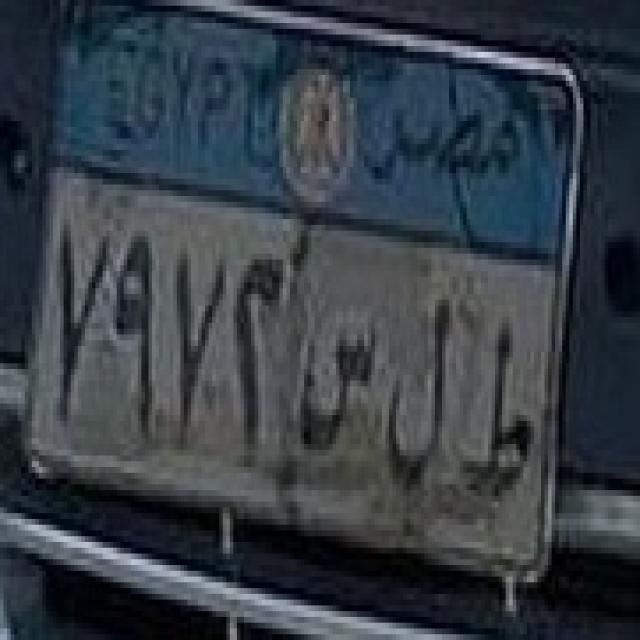2: (227, 242, 286, 456)
7: (42, 233, 110, 423), (166, 242, 228, 440)
9: (108, 231, 168, 437)
Laam: (382, 288, 452, 506)
Seen: (298, 298, 377, 466)
Taa: (453, 317, 548, 509)
